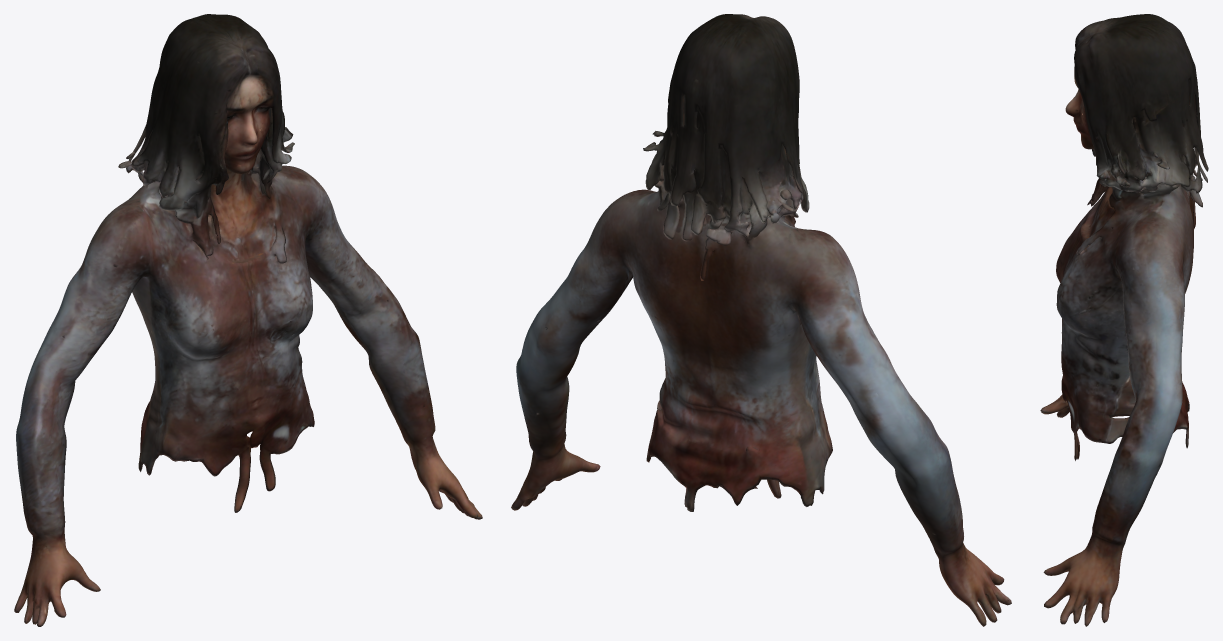
File: Teke_Teke_Girl_Monste_0423080302.fbx
3 views of the same model, side by side, from view 1: azimuth 30°, elevation 25°; view 2: azimuth 150°, elevation 25°; view 3: azimuth 270°, elevation 25° (orthographic). The views are drawn at different scales.
Parts seen in each view (by area): view 1: Mesh1; view 2: Mesh1; view 3: Mesh1.
Boxes of the visible parts, left/top/right/bottom form: Mesh1: left=14, top=14, right=482, bottom=626; Mesh1: left=511, top=14, right=1011, bottom=626; Mesh1: left=1040, top=14, right=1208, bottom=626.
Bounding box in the file's own units: 177 × 201 × 60.83.
1 material, 1 textured.
